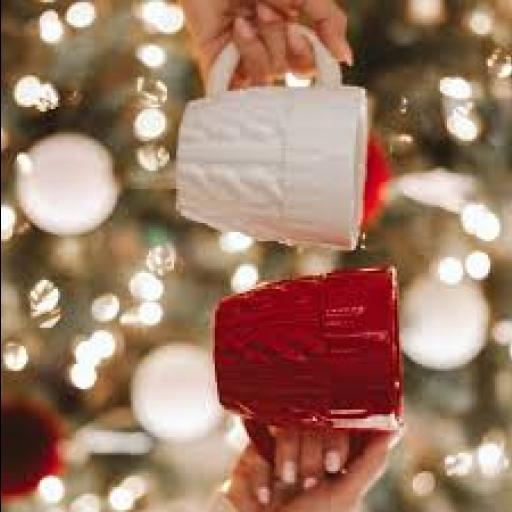red mug: (214, 269, 402, 459)
